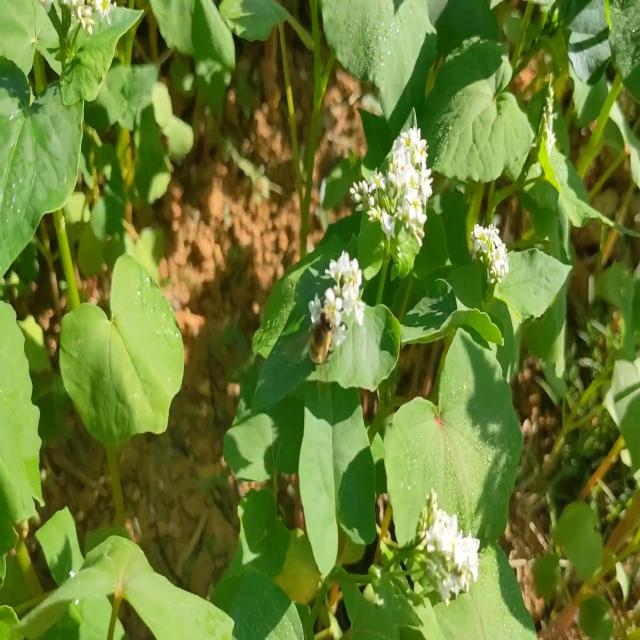honeybee: (296, 296, 346, 379)
